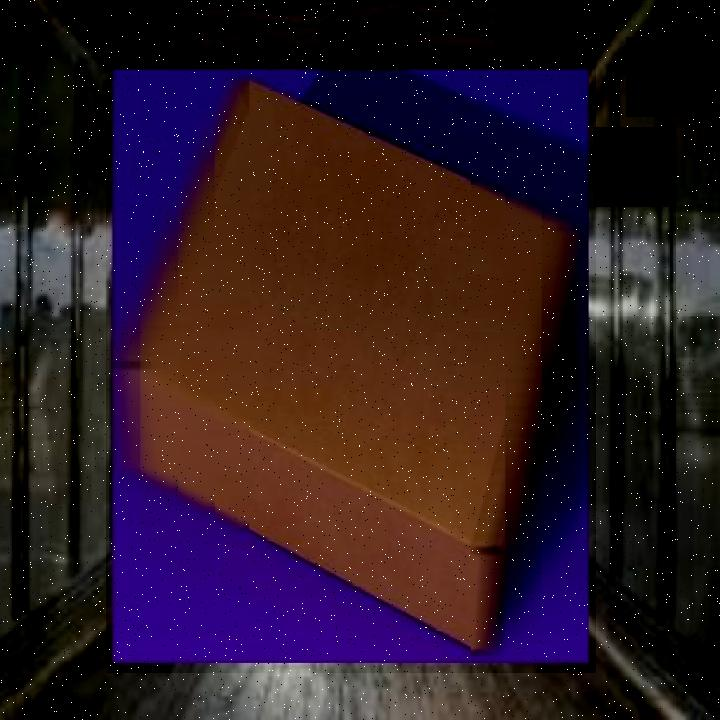box: (106, 61, 596, 673)
